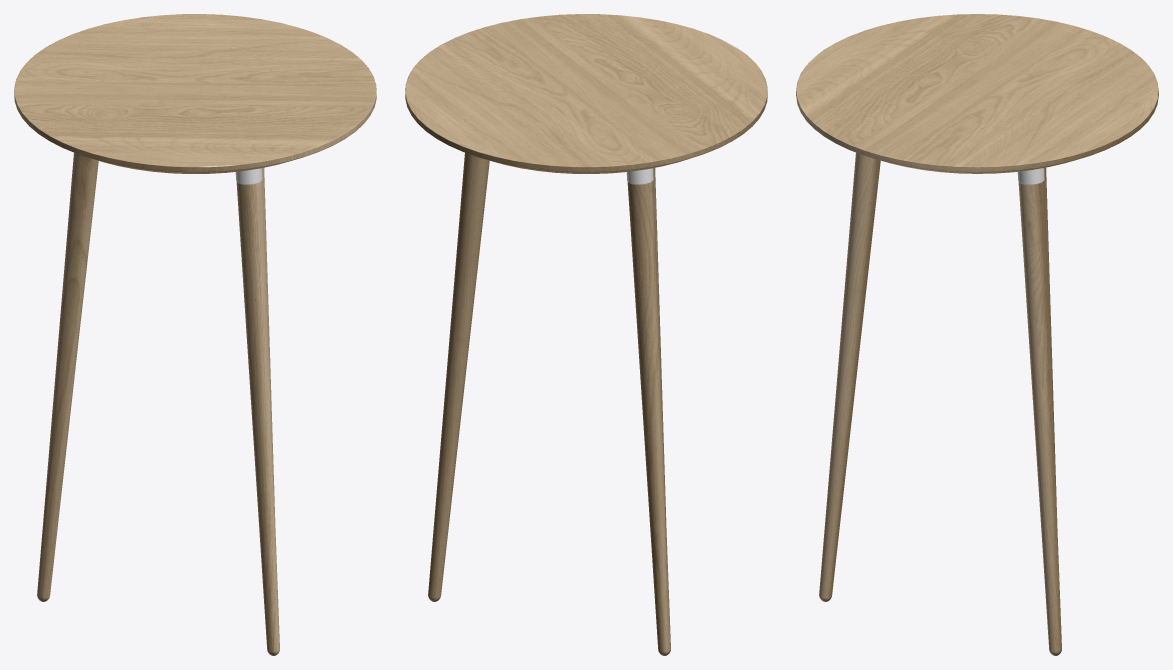
Rendered from edelweiss_bar_table_ash_and_white.glb.
3 renders of one model, left to right at view 1: azimuth 30°, elevation 25°; view 2: azimuth 150°, elevation 25°; view 3: azimuth 270°, elevation 25°, orthographic.
Visible parts, largest first — view 1: WALNUT_EDGE, WALNUT; view 2: WALNUT_EDGE, WALNUT; view 3: WALNUT_EDGE, WALNUT.
Boxes of the visible parts, box(x1,y1,x2,y2) form: WALNUT_EDGE: box(14, 14, 376, 655); WALNUT: box(14, 88, 376, 173); WALNUT_EDGE: box(405, 14, 767, 655); WALNUT: box(405, 88, 767, 173); WALNUT_EDGE: box(796, 14, 1158, 655); WALNUT: box(796, 88, 1158, 173).
Size of what is drawn, in the model's own units: 61.07 by 94.72 by 61.07.
4 materials, 3 textured.
